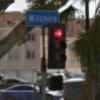cars: (1, 83, 62, 100)
traffic lights: (48, 23, 68, 70)
